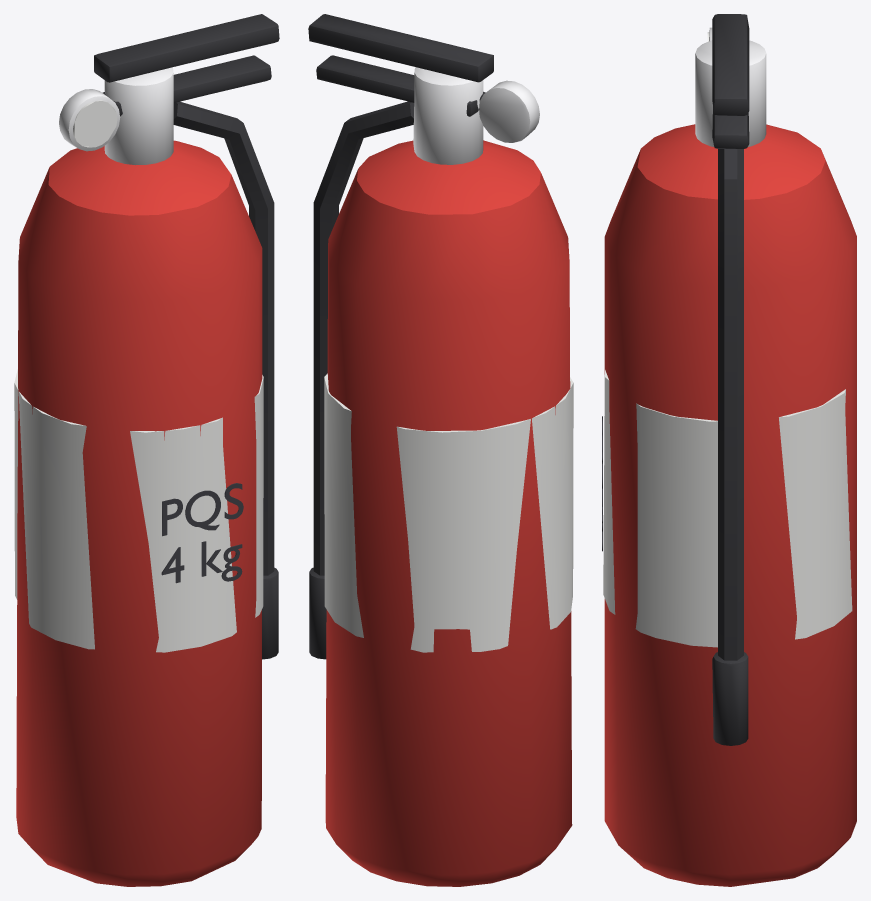
Rendered from HID-INC-005_lod1.glb.
3 renders of one model, left to right at view 1: azimuth 30°, elevation 25°; view 2: azimuth 150°, elevation 25°; view 3: azimuth 270°, elevation 25°, orthographic. The views are drawn at different scales.
Visible parts, largest first — view 1: HID-INC-005_cilindro, HID-INC-005_rotulo, HID-INC-005_mangueira, HID-INC-005_gatilho, HID-INC-005_valvula, HID-INC-005_alca, HID-INC-005_texto, HID-INC-005_mostrador, HID-INC-005_bico, HID-INC-005_manometro; view 2: HID-INC-005_cilindro, HID-INC-005_rotulo, HID-INC-005_mangueira, HID-INC-005_valvula, HID-INC-005_gatilho, HID-INC-005_manometro, HID-INC-005_alca, HID-INC-005_bico; view 3: HID-INC-005_cilindro, HID-INC-005_rotulo, HID-INC-005_mangueira, HID-INC-005_gatilho, HID-INC-005_valvula, HID-INC-005_bico, HID-INC-005_alca.
Boxes of the visible parts, x1,y1,x2,y2 form: HID-INC-005_cilindro: [16, 140, 262, 886]; HID-INC-005_rotulo: [14, 369, 263, 652]; HID-INC-005_mangueira: [173, 101, 274, 575]; HID-INC-005_gatilho: [94, 14, 279, 82]; HID-INC-005_valvula: [104, 67, 173, 165]; HID-INC-005_alca: [102, 55, 271, 116]; HID-INC-005_texto: [161, 483, 243, 583]; HID-INC-005_mostrador: [73, 100, 117, 147]; HID-INC-005_bico: [262, 567, 278, 659]; HID-INC-005_manometro: [59, 89, 120, 151]; HID-INC-005_cilindro: [325, 140, 572, 886]; HID-INC-005_rotulo: [324, 373, 573, 652]; HID-INC-005_mangueira: [313, 101, 414, 575]; HID-INC-005_valvula: [413, 67, 483, 164]; HID-INC-005_gatilho: [308, 14, 493, 82]; HID-INC-005_manometro: [479, 80, 539, 142]; HID-INC-005_alca: [316, 55, 485, 116]; HID-INC-005_bico: [309, 567, 326, 659]; HID-INC-005_cilindro: [604, 124, 856, 886]; HID-INC-005_rotulo: [603, 370, 852, 647]; HID-INC-005_mangueira: [718, 149, 743, 660]; HID-INC-005_gatilho: [712, 14, 749, 115]; HID-INC-005_valvula: [695, 40, 766, 146]; HID-INC-005_bico: [712, 652, 748, 745]; HID-INC-005_alca: [712, 107, 749, 148].
Bounding box in the file's own units: 0.1568 × 0.482 × 0.1375.
